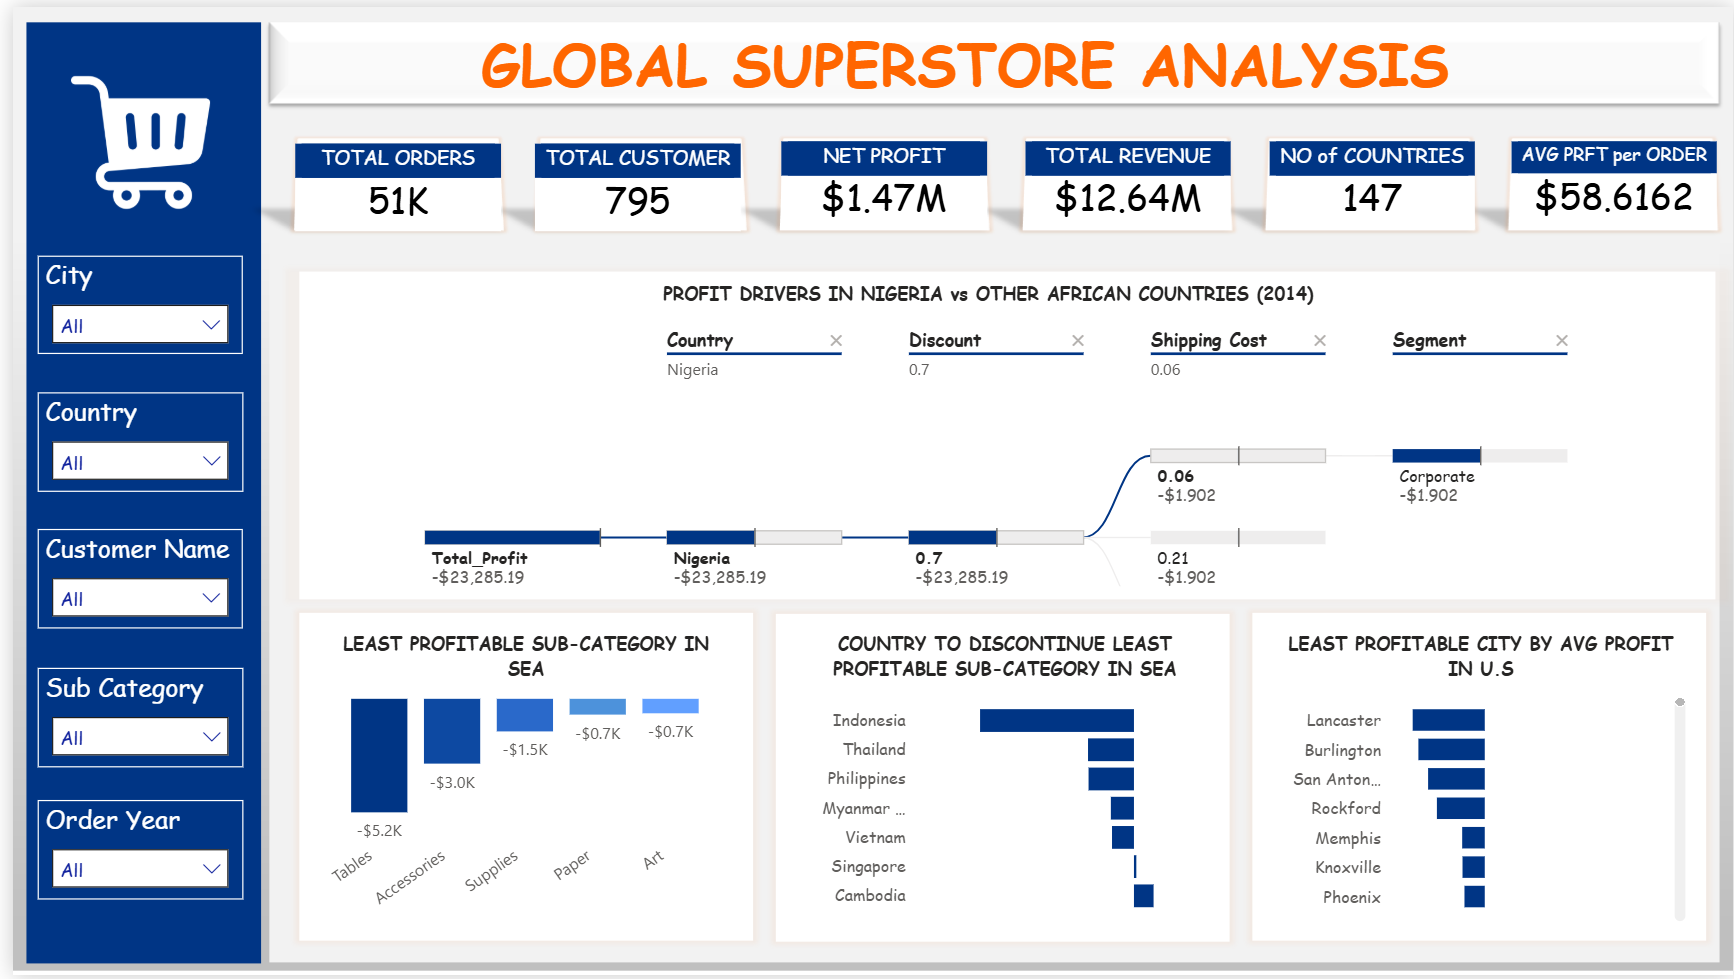

The dashboard page shown, as its layout file describes it:
{"tool":"powerbi","page":{"name":"VISUAL 2","canvas":[1280,720],"ordinal":1},"visuals":[{"type":"textbox","box":[344,7,763,70],"z":0},{"type":"card","title":"TOTAL ORDERS","fields":{"Values":["Measure_Table.Total_Orders"]},"box":[210,101,153,65],"z":1000},{"type":"card","title":"TOTAL CUSTOMER","fields":{"Values":["Measure_Table.Total Customers"]},"box":[388,101,153,65],"z":2000},{"type":"card","title":"NET PROFIT","fields":{"Values":["Measure_Table.Total_Profit"]},"box":[572.1,100,152.9,65],"z":3000},{"type":"card","title":"TOTAL REVENUE","fields":{"Values":["Measure_Table.Total Sales"]},"box":[753.4,100.7,152.8,65.2],"z":4000},{"type":"card","title":"NO of COUNTRIES","fields":{"Values":["Measure_Table.Total Countries"]},"box":[935.2,100,152.8,65.2],"z":5000},{"type":"card","title":"AVG PRFT per ORDER","fields":{"Values":["Measure_Table.AvgProfitPerOrder 2"]},"box":[1114.8,100,152.8,65.2],"z":6000},{"type":"slicer","title":"City","fields":{"Values":["Orders.City"]},"box":[18.6,185.6,152.6,73.2],"z":7000},{"type":"slicer","title":"Country","fields":{"Values":["Orders.Country"]},"box":[18.2,285.9,152.9,74.1],"z":8000},{"type":"slicer","title":"Customer Name","fields":{"Values":["Orders.Customer Name"]},"box":[18.6,388.8,152.6,74.2],"z":9000},{"type":"slicer","title":"Sub Category","fields":{"Values":["Orders.Sub-Category"]},"box":[18.2,491.2,152.9,74.1],"z":10000},{"type":"slicer","title":"Order Year","fields":{"Values":["Orders.Order- Year"]},"box":[18.2,590,152.9,74.1],"z":11000},{"type":"image","box":[37.1,41.3,116.5,118.6],"z":12000},{"type":"decompositionTreeVisual","title":"PROFIT DRIVERS IN NIGERIA vs OTHER AFRICAN COUNTRIES (2014)","fields":{"Analyze":["Measure_Table.Total_Profit"],"ExplainBy":["Orders.Country","Orders.Discount","Orders.Shipping Cost","Orders.Segment"]},"box":[276.5,202.9,898.2,232.6],"z":13000},{"type":"clusteredColumnChart","title":"LEAST  PROFITABLE SUB-CATEGORY IN SEA ","fields":{"Category":["Orders.Sub-Category"],"Y":["Measure_Table.Total Profit SEA"]},"box":[224.6,463.6,313.4,221],"z":14000},{"type":"clusteredBarChart","title":"COUNTRY TO DISCONTINUE LEAST PROFITABLE SUB-CATEGORY IN SEA","fields":{"Category":["Orders.Country"],"Y":["Measure_Table.Total_Profit"]},"box":[582.7,463.1,309.4,220.7],"z":15000},{"type":"clusteredBarChart","title":"LEAST PROFITABLE CITY BY AVG PROFIT IN U.S","fields":{"Category":["Orders.City"],"Y":["Measure_Table.AvgProfitPerOrder"]},"box":[935,462.8,314.4,221.9],"z":16000}]}

Visuals, with their boxes in screenshot pixels (x1, y1, x2, y2), scaled from the page's 1280x720 canvas onto the 1734x979 screenshot:
textbox: locate(466, 10, 1500, 105)
"TOTAL ORDERS" card: locate(284, 137, 492, 226)
"TOTAL CUSTOMER" card: locate(526, 137, 733, 226)
"NET PROFIT" card: locate(775, 136, 982, 224)
"TOTAL REVENUE" card: locate(1021, 137, 1228, 226)
"NO of COUNTRIES" card: locate(1267, 136, 1474, 225)
"AVG PRFT per ORDER" card: locate(1510, 136, 1717, 225)
"City" slicer: locate(25, 252, 232, 352)
"Country" slicer: locate(25, 389, 232, 490)
"Customer Name" slicer: locate(25, 529, 232, 630)
"Sub Category" slicer: locate(25, 668, 232, 769)
"Order Year" slicer: locate(25, 802, 232, 903)
image: locate(50, 56, 208, 217)
"PROFIT DRIVERS IN NIGERIA vs OTHER AFRICAN COUNTRIES (2014)" decompositionTreeVisual: locate(375, 276, 1591, 592)
"LEAST  PROFITABLE SUB-CATEGORY IN SEA " clusteredColumnChart: locate(304, 630, 729, 931)
"COUNTRY TO DISCONTINUE LEAST PROFITABLE SUB-CATEGORY IN SEA" clusteredBarChart: locate(789, 630, 1209, 930)
"LEAST PROFITABLE CITY BY AVG PROFIT IN U.S" clusteredBarChart: locate(1267, 629, 1693, 931)
